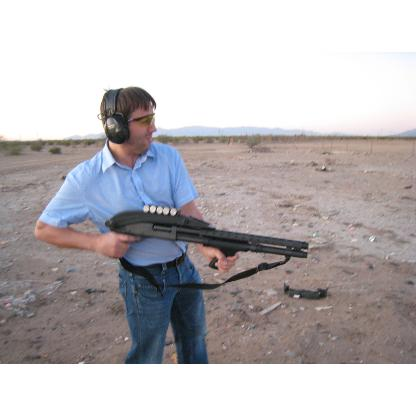gun: (103, 204, 309, 268)
